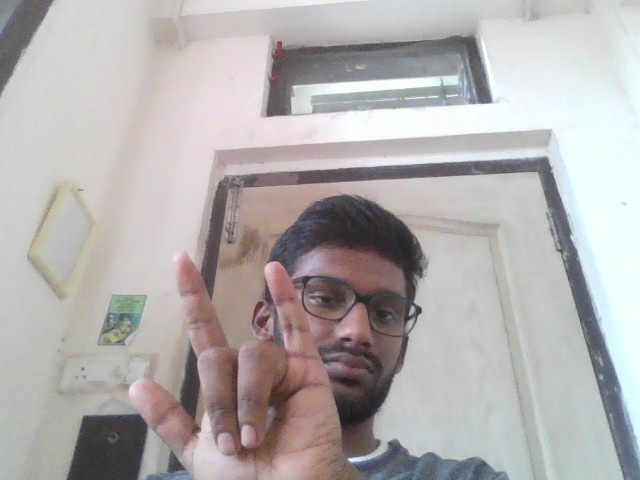I Love You: (127, 248, 351, 480)
